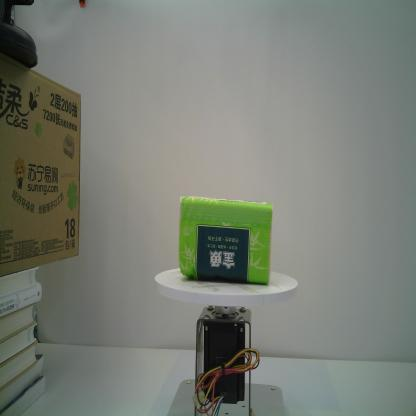Tissue: (178, 194, 273, 286)
